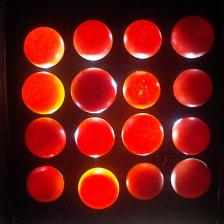fertile: (70, 68, 117, 114), (170, 15, 214, 59), (24, 117, 67, 158), (171, 158, 212, 199), (172, 69, 212, 107), (172, 116, 210, 154), (26, 166, 64, 204), (126, 162, 164, 200)
infertile: (22, 71, 66, 115), (77, 166, 120, 210), (122, 112, 164, 156), (23, 26, 66, 68), (75, 116, 115, 158), (73, 20, 113, 60), (123, 19, 162, 59), (122, 71, 160, 108)
